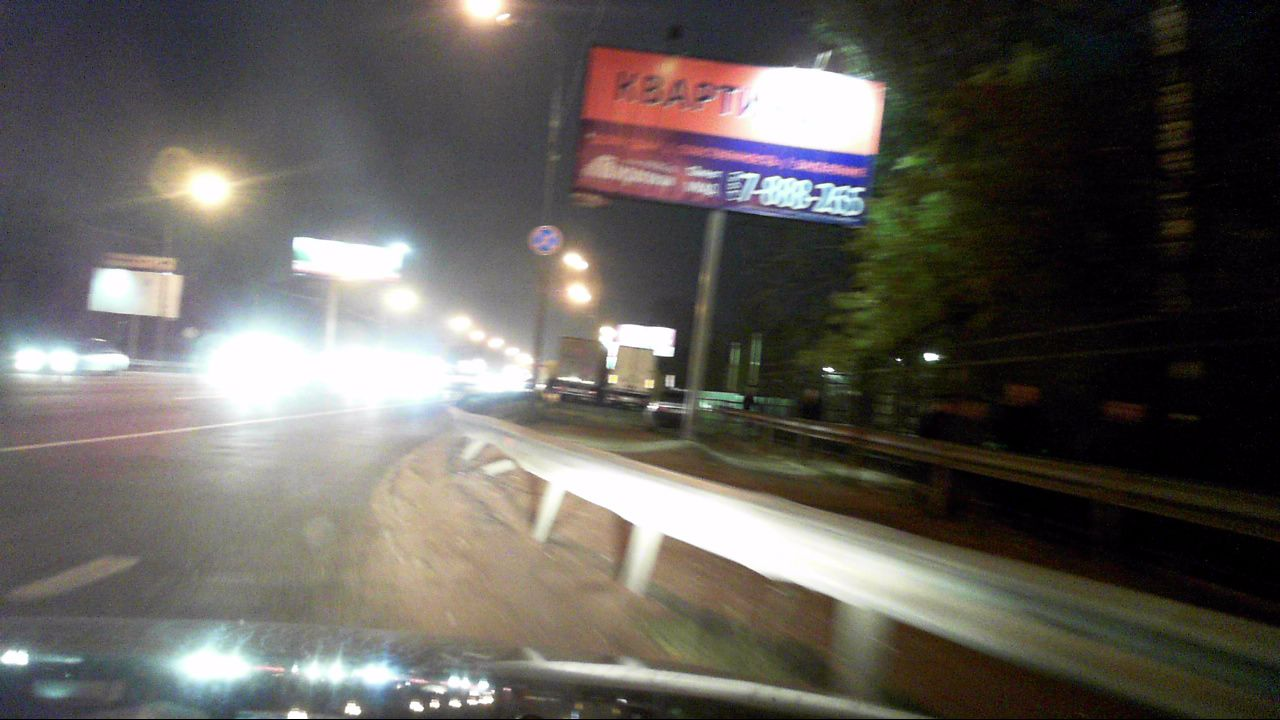No Parking: (530, 225, 561, 257)
